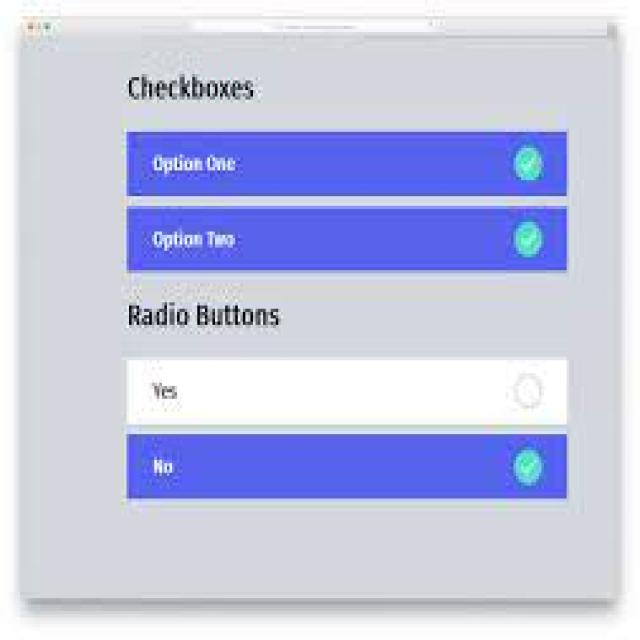checkbox: (135, 138, 562, 195), (144, 371, 560, 424), (143, 218, 561, 265), (146, 445, 564, 486)
text: (126, 69, 262, 115), (123, 297, 290, 330)
